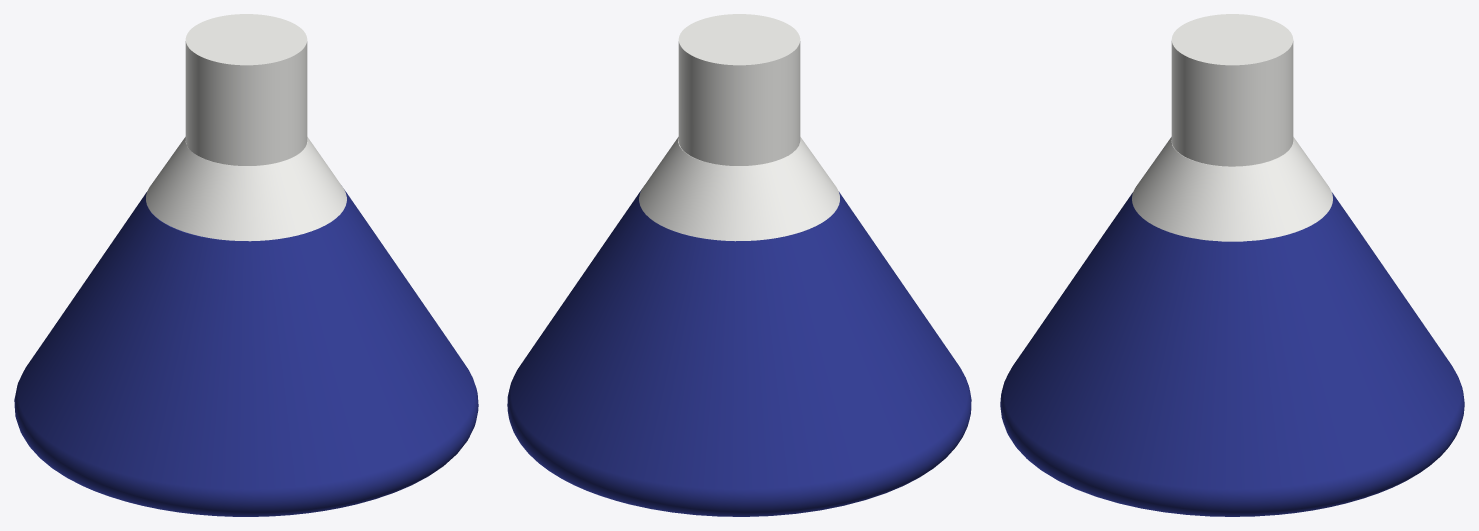
The model's file is Fiole v2_bi_color.fbx.
The picture shows the model from 3 angles, left to right: view 1: azimuth 30°, elevation 25°; view 2: azimuth 150°, elevation 25°; view 3: azimuth 270°, elevation 25°; orthographic projection.
Visible parts, largest first — view 1: Body1, Body3, Body2; view 2: Body1, Body3, Body2; view 3: Body1, Body3, Body2.
Boxes of the visible parts, bbox=[...] form: Body1: bbox=[14, 189, 478, 516]; Body3: bbox=[185, 14, 307, 165]; Body2: bbox=[146, 137, 346, 241]; Body1: bbox=[507, 189, 971, 516]; Body3: bbox=[678, 14, 800, 165]; Body2: bbox=[639, 137, 839, 241]; Body1: bbox=[1000, 192, 1464, 516]; Body3: bbox=[1171, 14, 1293, 166]; Body2: bbox=[1132, 137, 1332, 241].
Size of the model in its own units: 92.3 by 85 by 92.34.
